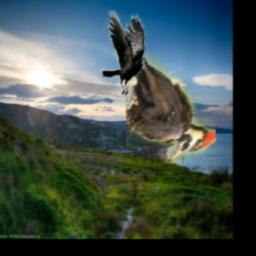Crow: (101, 10, 145, 97)
Woodpecker: (127, 52, 217, 163)
